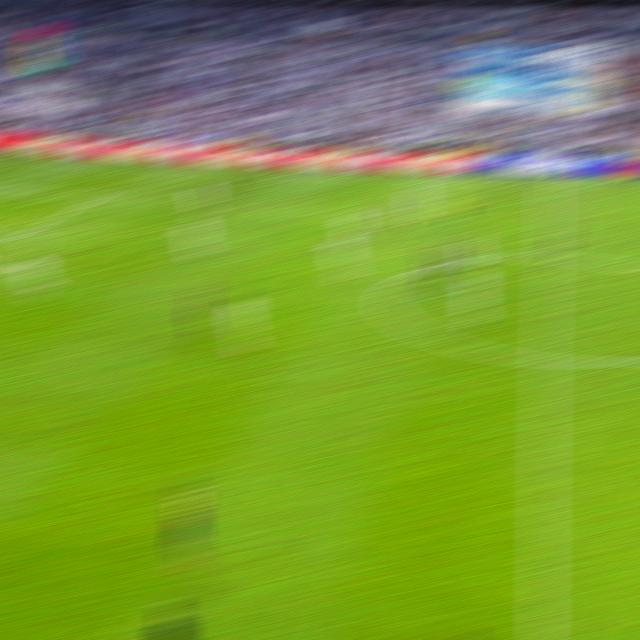bigarea_bottom_outter: (11, 226, 34, 239)
halfcircle_bottom: (531, 343, 559, 375)
halfcircle_top: (535, 244, 561, 270)
midline_top_intersection: (537, 176, 562, 190)
